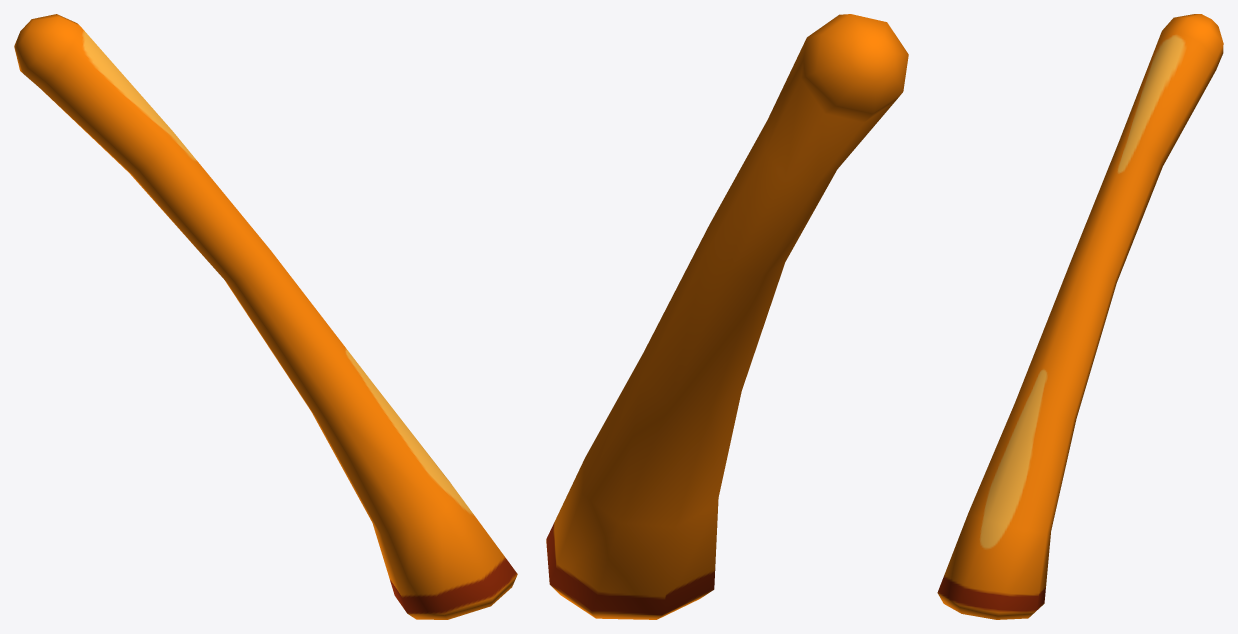
The model's file is Spider_002_LLeg_002_L.fbx.
3 views of the same model, side by side, from view 1: azimuth 30°, elevation 25°; view 2: azimuth 150°, elevation 25°; view 3: azimuth 270°, elevation 25° (orthographic). The views are drawn at different scales.
Parts seen in each view (by area): view 1: LowerLeg_002_L; view 2: LowerLeg_002_L; view 3: LowerLeg_002_L.
Boxes of the visible parts, x1,y1,x2,y2 form: LowerLeg_002_L: (14,14,517,619); LowerLeg_002_L: (546,14,908,619); LowerLeg_002_L: (937,14,1223,619).
Size of the model in its own units: 30.31 by 44.9 by 24.12.
